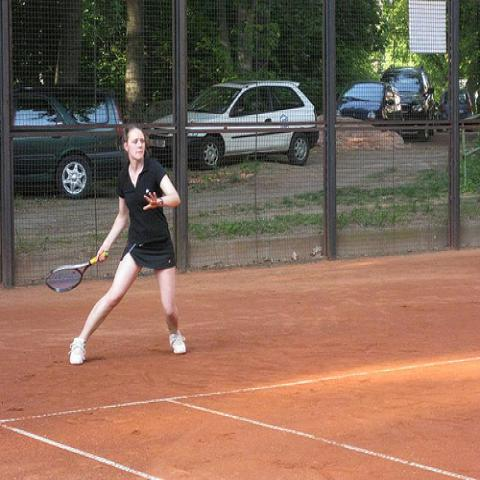car: (147, 80, 320, 172), (14, 92, 129, 200), (380, 66, 436, 140), (336, 79, 388, 122), (439, 88, 474, 119)
